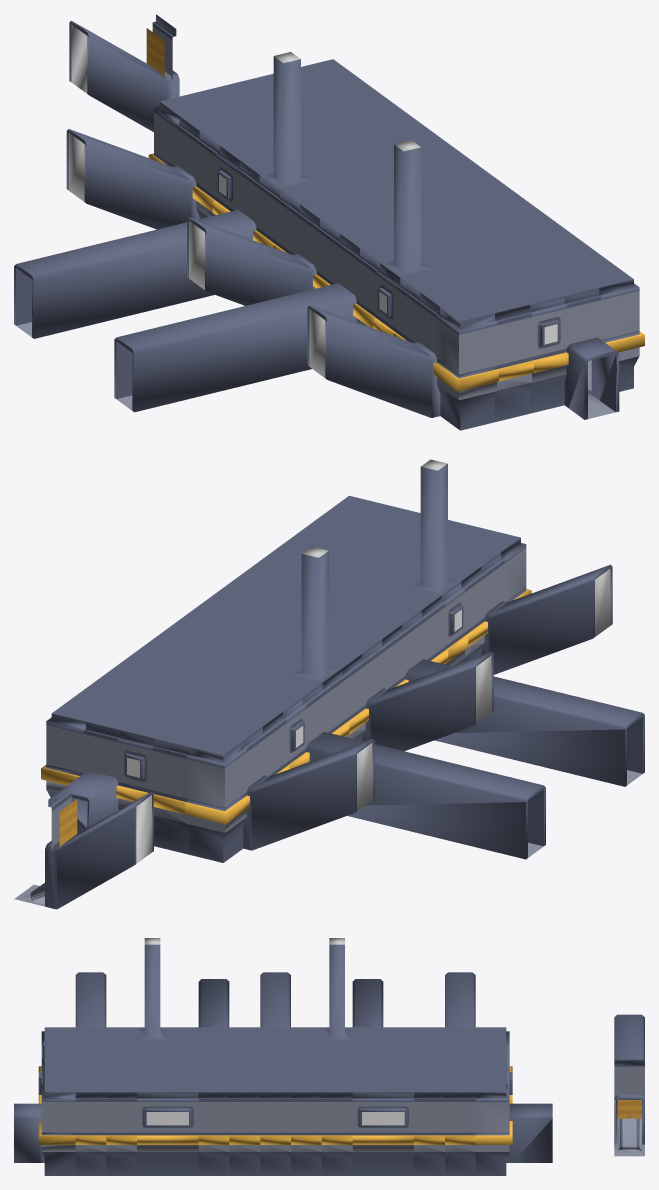
Rendered from conveyor room mesh.obj.
3 views of the same model, one above another, from view 1: azimuth 30°, elevation 25°; view 2: azimuth 150°, elevation 25°; view 3: azimuth 270°, elevation 25° (orthographic). The views are drawn at different scales.
Parts seen in each view (by area): view 1: structure-doorway.008_structure-doorway.003, structure-doorway.007_structure-doorway.003, structure-doorway.003_structure-doorway.004, structure-doorway.005_structure-doorway.004, structure-doorway.004, structure-doorway.014_structure-doorway.008, structure-corner-inner.005_structure-corner-inner.001, structure-doorway.002_structure-doorway.001, top-large.027_top-large.002, top-large.057_top-large.002, structure-wall.018_structure-wall.001, structure-wall.017_structure-window.001 (+68 smaller); view 2: structure-doorway.007_structure-doorway.003, structure-doorway.008_structure-doorway.003, structure-doorway.005_structure-doorway.004, structure-doorway.003_structure-doorway.004, structure-doorway.004, structure-doorway.014_structure-doorway.008, structure-corner-inner.004_structure-corner-inner.001, structure-doorway.001_structure-doorway.002, top-large.057_top-large.002, top-large.027_top-large.002, structure-wall.016_structure-wall.001, structure-corner-inner.003_structure-corner-inner.001 (+67 smaller); view 3: structure-window-wide.002_structure-window-wide.001, structure-window-wide.003_structure-window-wide.001, structure-doorway.014_structure-doorway.008, structure-corner-inner.003_structure-corner-inner.001, structure-corner-inner.002_structure-corner-inner.001, structure-wall.002_structure-wall.001, structure-wall.006_structure-wall.001, structure-wall.007_structure-wall.001, structure-wall.010_structure-wall.001, structure-doorway.001_structure-doorway.002, structure-wall.003_structure-wall.001, structure-wall.008_structure-wall.001 (+86 smaller).
Boxes of the visible parts, bbox=[...] form: structure-doorway.008_structure-doorway.003: bbox=[114, 234, 359, 412]; structure-doorway.007_structure-doorway.003: bbox=[14, 160, 259, 338]; structure-doorway.003_structure-doorway.004: bbox=[307, 292, 440, 417]; structure-doorway.005_structure-doorway.004: bbox=[66, 116, 199, 229]; structure-doorway.004: bbox=[187, 204, 319, 305]; structure-doorway.014_structure-doorway.008: bbox=[69, 14, 179, 131]; structure-corner-inner.005_structure-corner-inner.001: bbox=[433, 307, 498, 430]; structure-doorway.002_structure-doorway.001: bbox=[564, 288, 619, 419]; top-large.027_top-large.002: bbox=[260, 52, 313, 189]; top-large.057_top-large.002: bbox=[380, 140, 434, 277]; structure-wall.018_structure-wall.001: bbox=[495, 304, 533, 422]; structure-wall.017_structure-window.001: bbox=[530, 296, 568, 413]; structure-doorway.007_structure-doorway.003: bbox=[302, 683, 545, 859]; structure-doorway.008_structure-doorway.003: bbox=[402, 610, 644, 786]; structure-doorway.005_structure-doorway.004: bbox=[243, 726, 374, 850]; structure-doorway.003_structure-doorway.004: bbox=[481, 552, 612, 674]; structure-doorway.004: bbox=[362, 639, 493, 751]; structure-doorway.014_structure-doorway.008: bbox=[14, 785, 153, 909]; structure-corner-inner.004_structure-corner-inner.001: bbox=[185, 741, 249, 862]; structure-doorway.001_structure-doorway.002: bbox=[59, 722, 120, 833]; top-large.057_top-large.002: bbox=[407, 459, 460, 595]; top-large.027_top-large.002: bbox=[288, 546, 341, 682]; structure-wall.016_structure-wall.001: bbox=[152, 738, 188, 854]; structure-corner-inner.003_structure-corner-inner.001: bbox=[41, 713, 85, 797]; structure-window-wide.002_structure-window-wide.001: bbox=[137, 1092, 198, 1175]; structure-window-wide.003_structure-window-wide.001: bbox=[352, 1092, 413, 1175]; structure-doorway.014_structure-doorway.008: bbox=[614, 1014, 644, 1156]; structure-corner-inner.003_structure-corner-inner.001: bbox=[475, 1084, 512, 1175]; structure-corner-inner.002_structure-corner-inner.001: bbox=[38, 1084, 75, 1175]; structure-wall.002_structure-wall.001: bbox=[75, 1092, 106, 1175]; structure-wall.006_structure-wall.001: bbox=[198, 1092, 229, 1175]; structure-wall.007_structure-wall.001: bbox=[229, 1092, 260, 1175]; structure-wall.010_structure-wall.001: bbox=[321, 1092, 352, 1175]; structure-doorway.001_structure-doorway.002: bbox=[506, 1071, 552, 1162]; structure-wall.003_structure-wall.001: bbox=[106, 1092, 136, 1175]; structure-wall.008_structure-wall.001: bbox=[260, 1092, 290, 1175].
Size of the model in its own units: 23.4 by 12.63 by 41.
